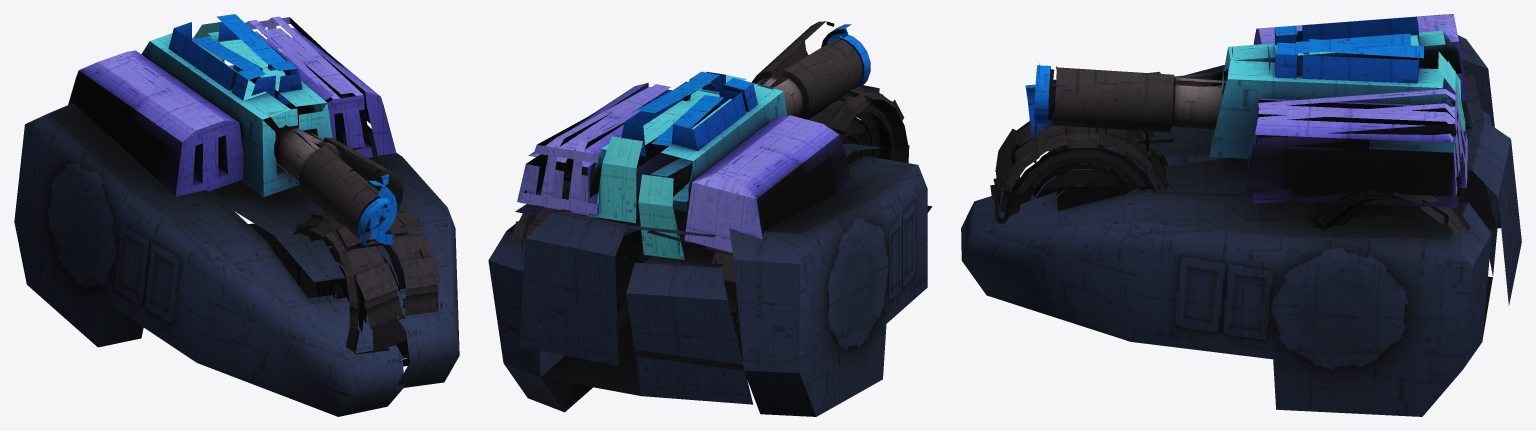
The model's file is PlayerA_Die1.obj.
3 views of the same model, side by side, from view 1: azimuth 30°, elevation 25°; view 2: azimuth 150°, elevation 25°; view 3: azimuth 270°, elevation 25° (orthographic). The views are drawn at different scales.
Parts seen in each view (by area): view 1: Object001; view 2: Object001; view 3: Object001.
Boxes of the visible parts, x1=… form: Object001: x1=14, y1=14, x2=459, y2=416; Object001: x1=488, y1=21, x2=932, y2=416; Object001: x1=961, y1=14, x2=1521, y2=416.
Size of the model in its own units: 84.5 by 78.95 by 125.
1 material, 1 textured.
